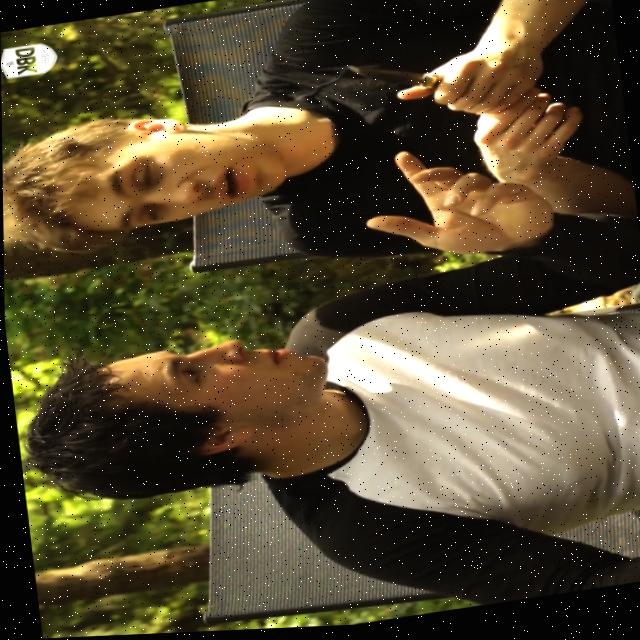knife: (337, 49, 440, 111)
